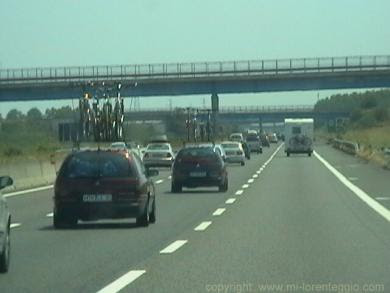car: (57, 144, 152, 227), (168, 141, 229, 193)
